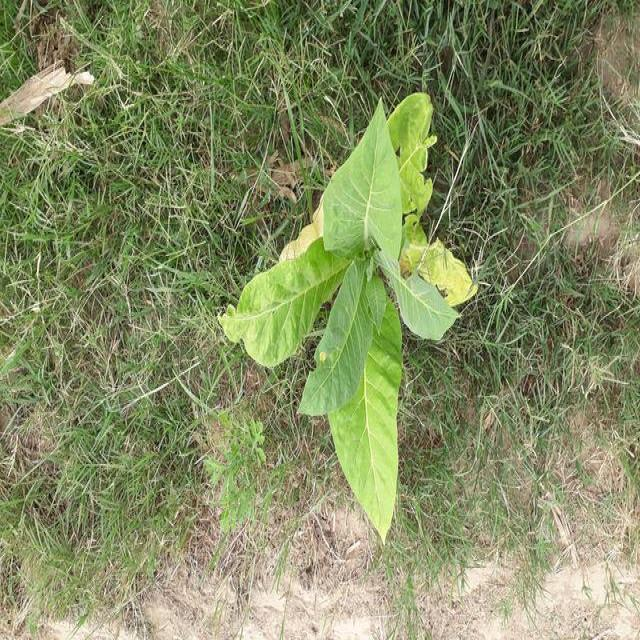crop: (202, 98, 490, 542)
